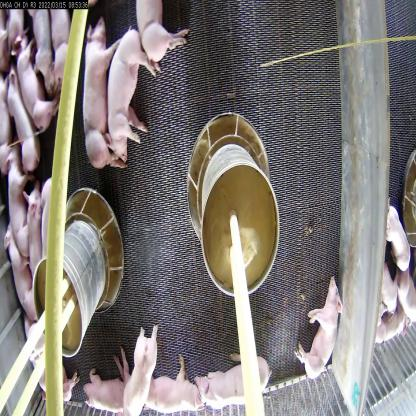Pig: (201, 337, 275, 415), (302, 272, 344, 384), (112, 33, 143, 164), (88, 21, 112, 183), (122, 321, 160, 415), (138, 362, 204, 415), (27, 336, 72, 410), (5, 68, 40, 162), (134, 2, 182, 64), (82, 362, 137, 415), (18, 50, 53, 124), (39, 171, 65, 259), (28, 4, 58, 80), (49, 1, 75, 82), (3, 236, 30, 288), (27, 190, 44, 267), (7, 154, 19, 250)
